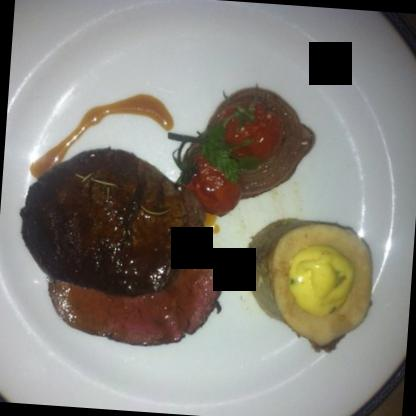beef: (16, 146, 209, 300), (42, 224, 223, 348)
